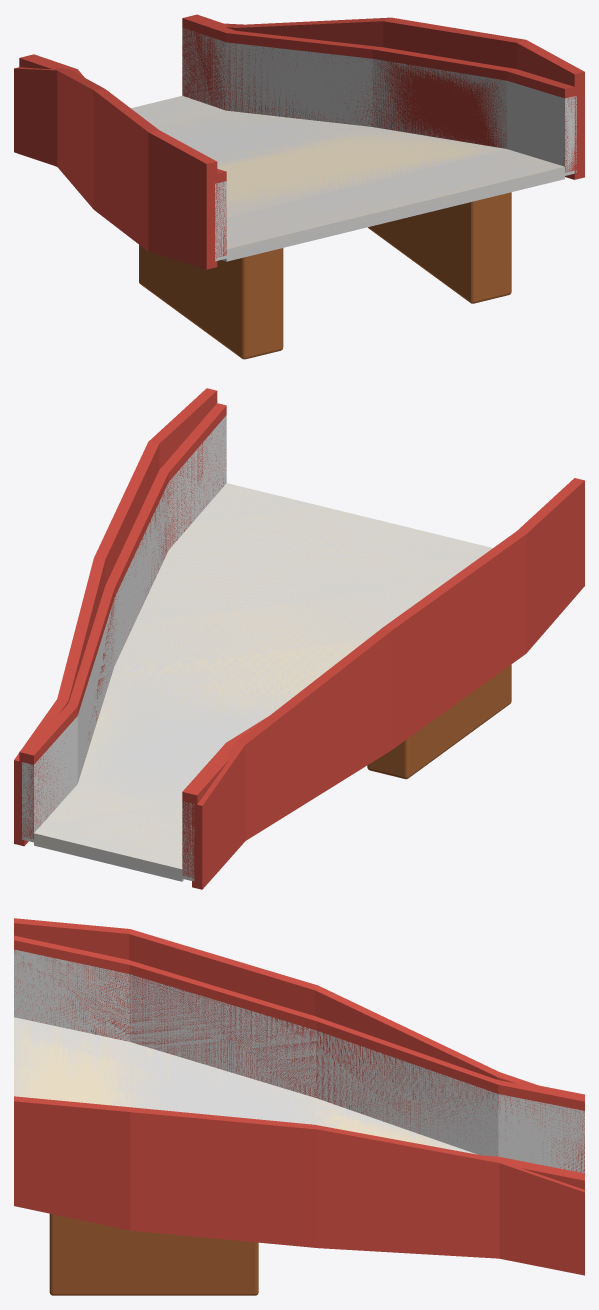
File: A09_FryCartonCatch.fbx
3 views of the same model, one above another, from view 1: azimuth 30°, elevation 25°; view 2: azimuth 150°, elevation 25°; view 3: azimuth 270°, elevation 25° (orthographic).
Parts seen in each view (by area): view 1: Fries • external curved paper carton, COL_Fries_00_Floor, Fries • connected cream floor 01, Fries • wedged support foot, COL_Fries_02_WallR, Fries • pale red retaining wall.003, Fries • external curved paper carton.001, Fries • wedged support foot.001, COL_Fries_02_Floor, COL_Fries_01_Floor, COL_Fries_00_WallR, COL_Fries_01_WallR (+11 smaller); view 2: Fries • external curved paper carton, COL_Fries_01_Floor, Fries • connected cream floor 01, COL_Fries_00_Floor, COL_Fries_02_Floor, Fries • connected cream floor 00, COL_Fries_03_Floor, Fries • external curved paper carton.001, Fries • connected cream floor 03, Fries • wedged support foot, Fries • connected cream floor 02, COL_Fries_00_WallR (+9 smaller); view 3: Fries • external curved paper carton.001, Fries • wedged support foot.001, Fries • external curved paper carton, COL_Fries_01_WallL, COL_Fries_02_WallL, Fries • pale red retaining wall.002, COL_Fries_01_Floor, COL_Fries_00_WallL, Fries • connected cream floor 00, Fries • pale red retaining wall.004, COL_Fries_03_WallL, COL_Fries_00_Floor (+6 smaller).
Part boxes in pixels (x1,y1,x2,y2): Fries • external curved paper carton: [14, 67, 217, 269]; COL_Fries_00_Floor: [222, 149, 564, 261]; Fries • connected cream floor 01: [217, 127, 505, 216]; Fries • wedged support foot: [139, 245, 283, 359]; COL_Fries_02_WallR: [226, 42, 372, 126]; Fries • pale red retaining wall.003: [372, 47, 515, 148]; Fries • external curved paper carton.001: [225, 17, 584, 179]; Fries • wedged support foot.001: [368, 192, 511, 303]; COL_Fries_02_Floor: [156, 110, 370, 164]; COL_Fries_01_Floor: [217, 127, 504, 216]; COL_Fries_00_WallR: [506, 81, 576, 175]; COL_Fries_01_WallR: [372, 59, 506, 148]; Fries • external curved paper carton: [192, 478, 584, 889]; COL_Fries_01_Floor: [114, 550, 407, 706]; Fries • connected cream floor 01: [117, 550, 407, 706]; COL_Fries_00_Floor: [169, 483, 492, 608]; COL_Fries_02_Floor: [78, 667, 280, 809]; Fries • connected cream floor 00: [169, 483, 492, 608]; COL_Fries_03_Floor: [34, 784, 183, 881]; Fries • external curved paper carton.001: [14, 388, 217, 846]; Fries • connected cream floor 03: [34, 784, 182, 876]; Fries • wedged support foot: [367, 664, 511, 779]; Fries • connected cream floor 02: [78, 667, 279, 808]; COL_Fries_00_WallR: [168, 415, 226, 549]; Fries • external curved paper carton.001: [14, 1096, 584, 1275]; Fries • wedged support foot.001: [49, 1213, 258, 1295]; Fries • external curved paper carton: [14, 918, 537, 1085]; COL_Fries_01_WallL: [129, 974, 316, 1097]; COL_Fries_02_WallL: [316, 1030, 498, 1156]; Fries • pale red retaining wall.002: [129, 960, 316, 1097]; COL_Fries_01_Floor: [129, 1042, 316, 1124]; COL_Fries_00_WallL: [14, 949, 129, 1041]; Fries • connected cream floor 00: [14, 1017, 129, 1106]; Fries • pale red retaining wall.004: [316, 1016, 498, 1152]; COL_Fries_03_WallL: [498, 1094, 584, 1173]; COL_Fries_00_Floor: [14, 1017, 129, 1106].
Size of the model in its own units: 0.255 by 0.144 by 0.336.
